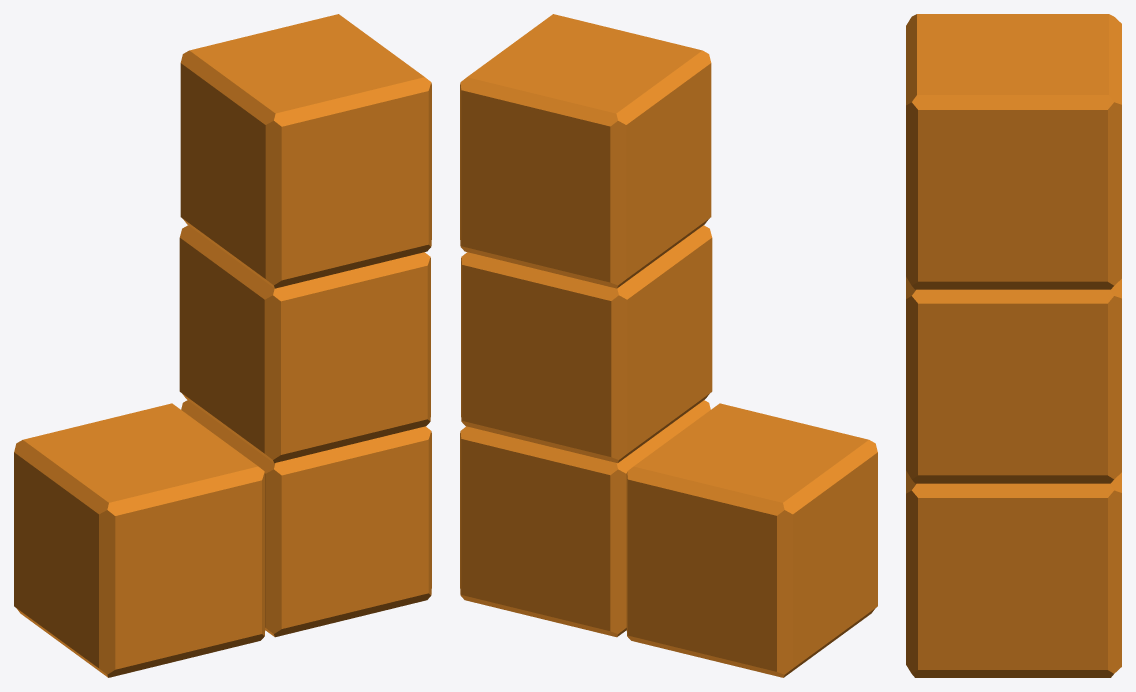
Rendered from pieza5.fbx.
3 views of the same model, side by side, from view 1: azimuth 30°, elevation 25°; view 2: azimuth 150°, elevation 25°; view 3: azimuth 270°, elevation 25° (orthographic). The views are drawn at different scales.
Visible parts, largest first — view 1: Cube.002, Cube.001, Cube.003, Cube; view 2: Cube.002, Cube.001, Cube.003, Cube; view 3: Cube.002, Cube, Cube.003.
Part boxes in pixels (x1,y1,x2,y2): Cube.002: [180, 14, 431, 288]; Cube.001: [14, 403, 265, 677]; Cube.003: [179, 225, 430, 463]; Cube: [181, 400, 431, 637]; Cube.002: [460, 14, 711, 288]; Cube.001: [626, 403, 877, 677]; Cube.003: [461, 225, 712, 463]; Cube: [460, 400, 710, 637]; Cube.002: [906, 14, 1121, 289]; Cube: [906, 470, 1121, 677]; Cube.003: [906, 277, 1121, 483].
Size of the model in its own units: 422 by 634 by 213.
